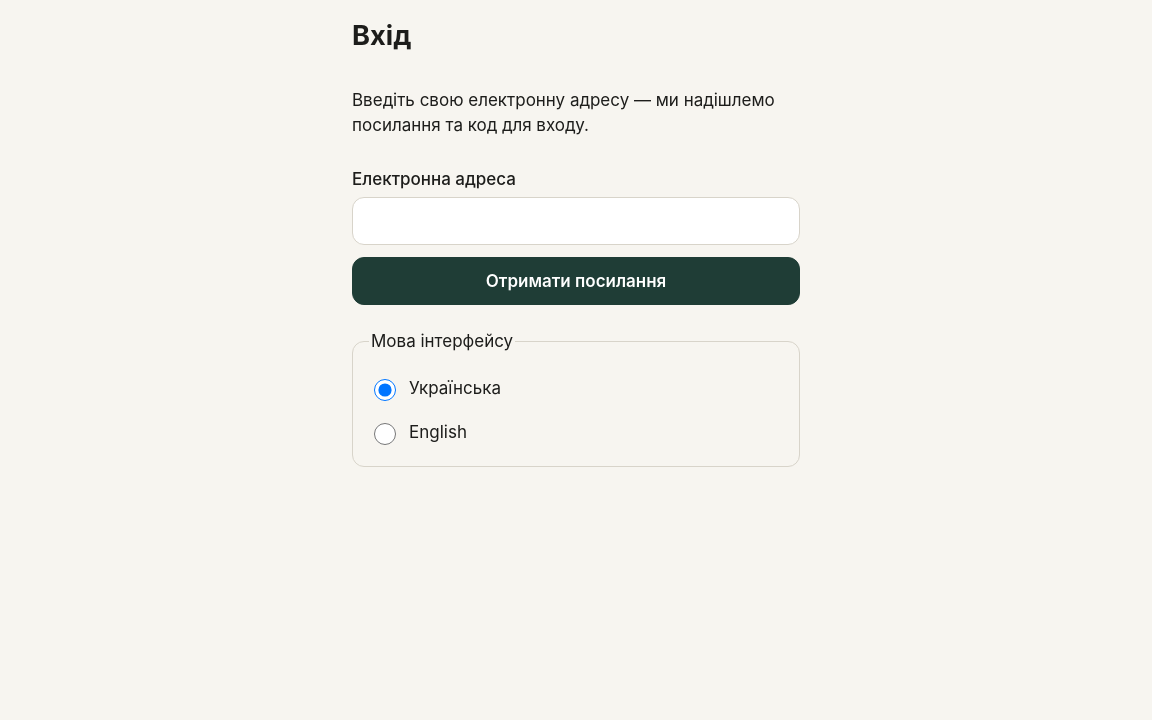
Test: sign-in › requests a login email and signs in with the one-time code
The image size is (1152, 720).
Type " expert@example.com " into the field labelled "Електронна адреса" at point(576, 221), box [352,197,800,245]
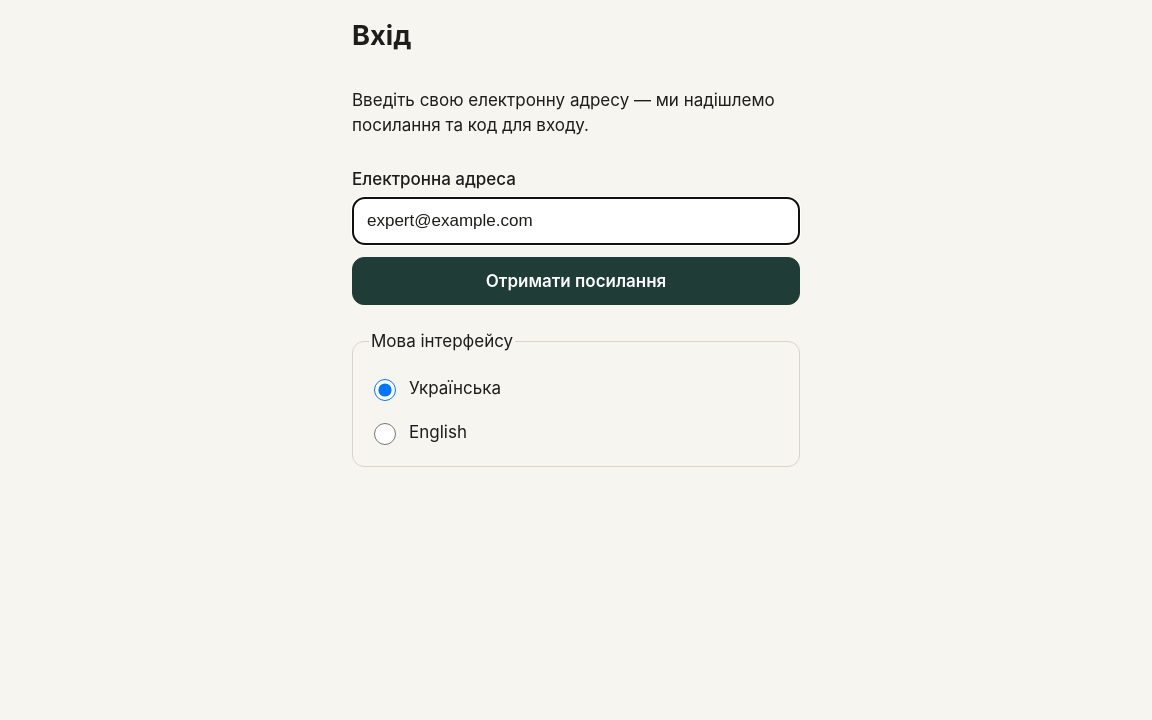
Click the button "Отримати посилання" at point(576, 281), box [352,257,800,305]
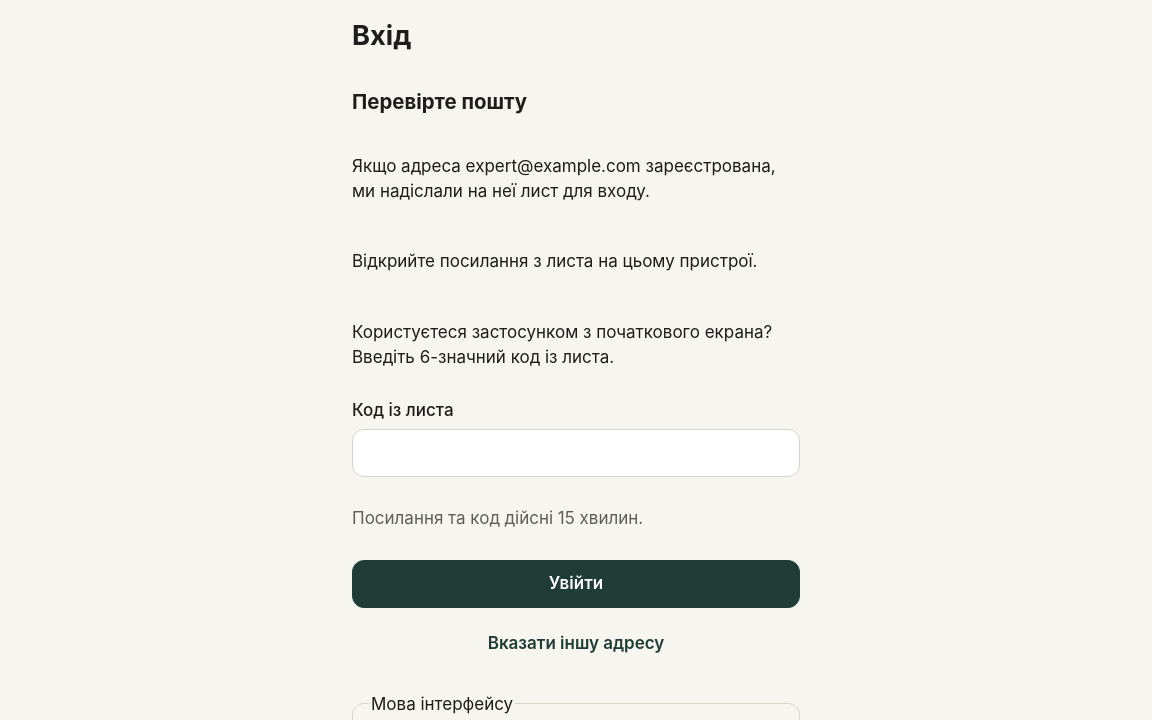
Expected: the heading "Перевірте пошту" is shown, [352,89,527,114]
Expected: the text "Посилання та код дійсні 15 хвилин." is shown, [352,508,643,528]
Type "12-34 56" into the field labelled "Код із листа" at point(576, 453), box [352,429,800,477]
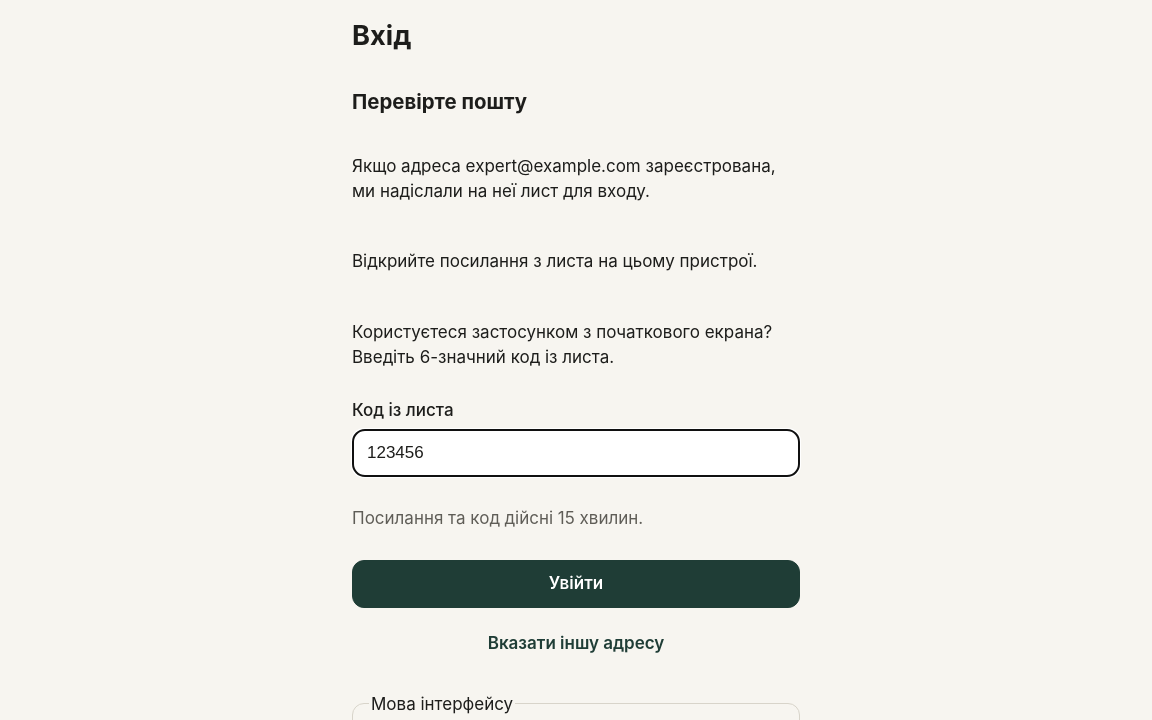
Click the button "Увійти" at point(576, 584), box [352,560,800,608]
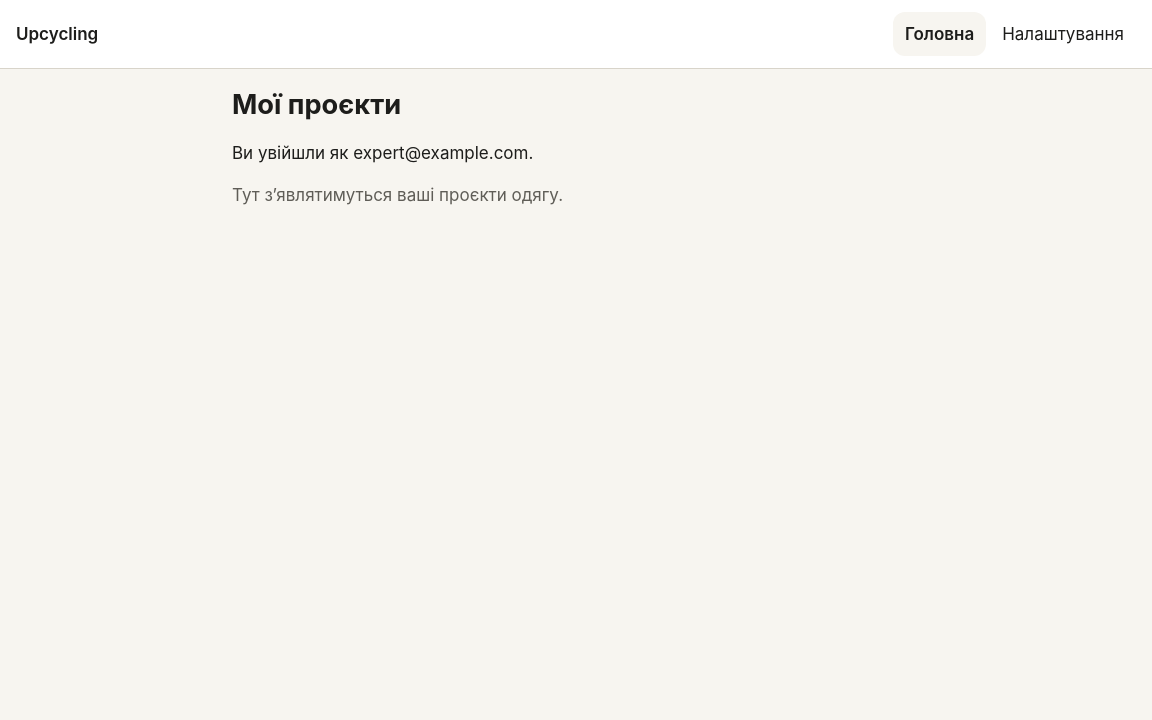
Expected: the heading "Мої проєкти" is shown, [232,88,401,121]
